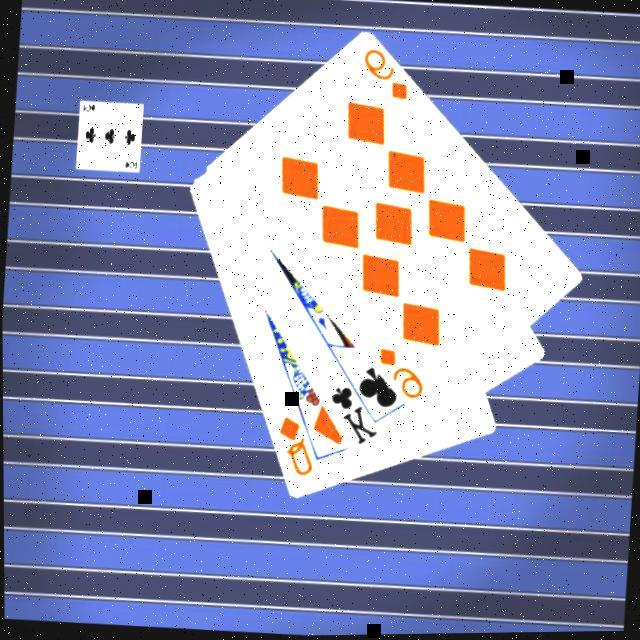9D: (369, 342, 426, 403), (356, 43, 412, 104)
KC: (322, 368, 383, 450)
QD: (270, 410, 317, 480)
